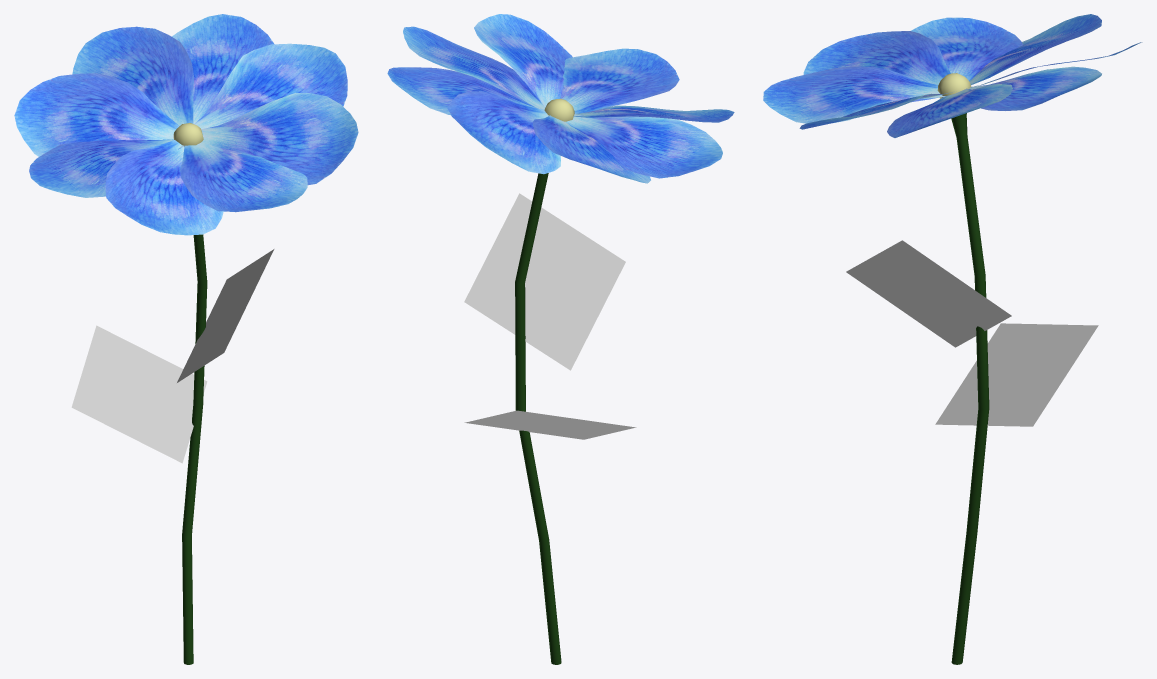
Rendered from BlueFlower.fbx.
3 views of the same model, side by side, from view 1: azimuth 30°, elevation 25°; view 2: azimuth 150°, elevation 25°; view 3: azimuth 270°, elevation 25° (orthographic). The views are drawn at different scales.
Parts seen in each view (by area): view 1: BlueFlower.001, BlueFlower.008, BlueFlower.004, BlueFlower.005, BlueFlower.007, BlueFlower.010, BlueFlower.003, BlueFlower.006, BlueFlower, BlueFlower.009, BlueFlower.002; view 2: BlueFlower.002, BlueFlower.009, BlueFlower, BlueFlower.003, BlueFlower.007, BlueFlower.004, BlueFlower.005, BlueFlower.006, BlueFlower.008, BlueFlower.001, BlueFlower.010; view 3: BlueFlower.001, BlueFlower.002, BlueFlower, BlueFlower.003, BlueFlower.010, BlueFlower.009, BlueFlower.006, BlueFlower.005, BlueFlower.008, BlueFlower.004.
Part boxes in pixels (x1,y1,x2,y2): BlueFlower.001: [71, 325, 207, 463]; BlueFlower.008: [14, 73, 179, 156]; BlueFlower.004: [201, 92, 358, 185]; BlueFlower.005: [194, 43, 347, 129]; BlueFlower.007: [72, 26, 194, 125]; BlueFlower.010: [105, 140, 223, 235]; BlueFlower.003: [180, 142, 307, 212]; BlueFlower.006: [172, 14, 274, 123]; BlueFlower: [173, 123, 207, 664]; BlueFlower.009: [29, 139, 183, 197]; BlueFlower.002: [177, 249, 274, 382]; BlueFlower.002: [464, 193, 625, 370]; BlueFlower.009: [566, 114, 722, 178]; BlueFlower: [515, 98, 574, 664]; BlueFlower.003: [560, 48, 679, 113]; BlueFlower.007: [447, 91, 560, 174]; BlueFlower.004: [474, 14, 572, 107]; BlueFlower.005: [403, 26, 545, 109]; BlueFlower.006: [387, 67, 536, 115]; BlueFlower.008: [532, 115, 650, 183]; BlueFlower.001: [464, 410, 636, 439]; BlueFlower.010: [573, 105, 734, 122]; BlueFlower.001: [935, 323, 1098, 426]; BlueFlower.002: [846, 240, 1011, 347]; BlueFlower: [937, 73, 989, 664]; BlueFlower.003: [763, 66, 945, 123]; BlueFlower.010: [803, 31, 950, 84]; BlueFlower.009: [911, 17, 1023, 81]; BlueFlower.006: [969, 66, 1101, 110]; BlueFlower.005: [887, 84, 1012, 137]; BlueFlower.008: [969, 14, 1101, 85]; BlueFlower.004: [799, 92, 952, 129].
Bounding box in the file's own units: 12 × 22.02 × 11.92.
